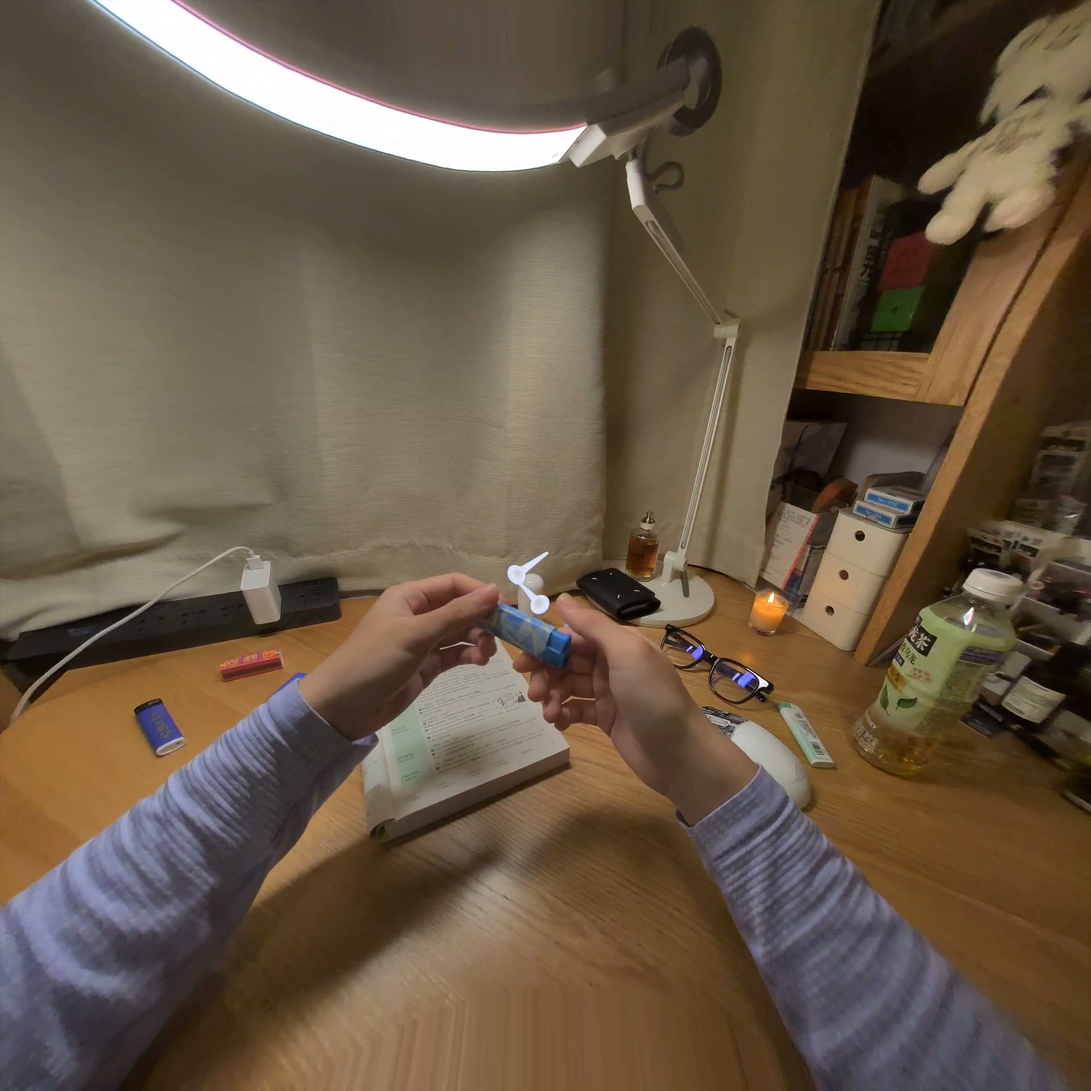lighter: (480, 603, 571, 668)
